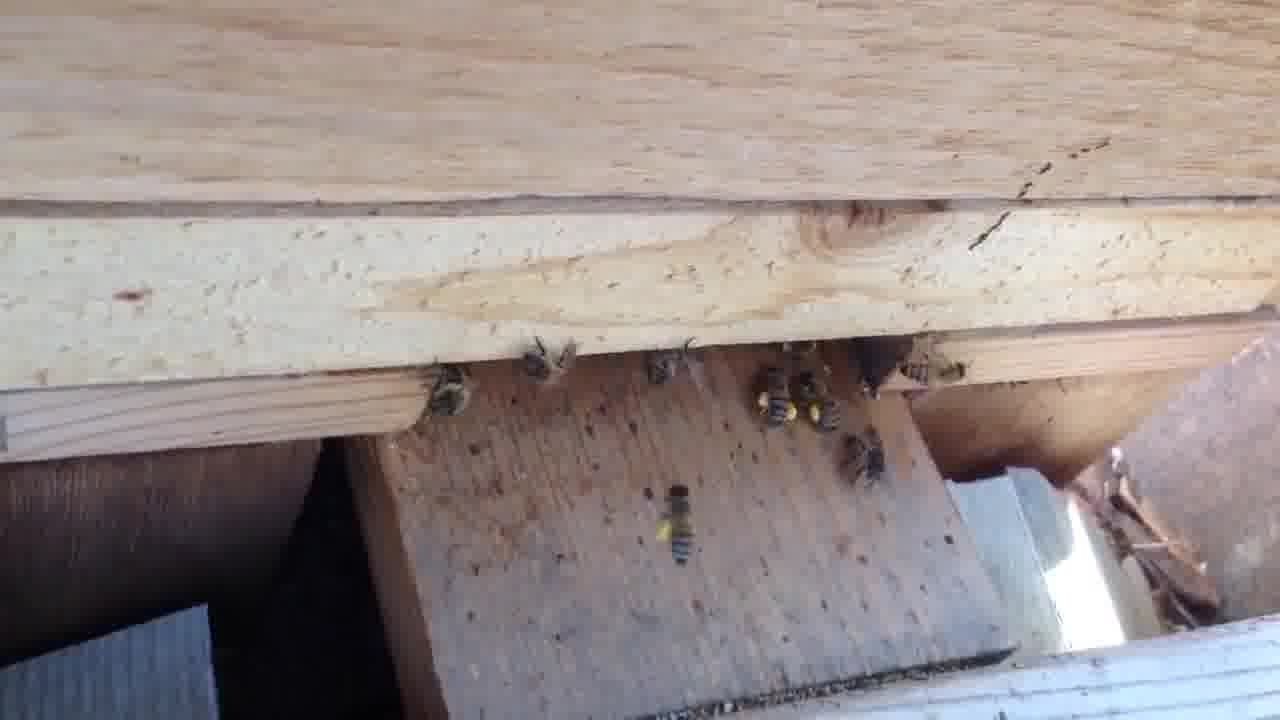pollen: (652, 479, 706, 574), (755, 364, 798, 438), (797, 372, 846, 433)
